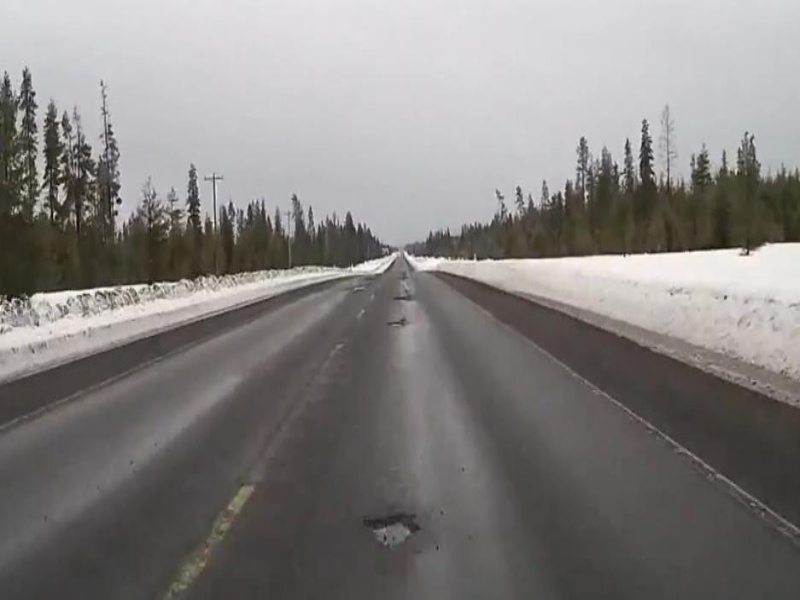pothole: (363, 513, 423, 547)
